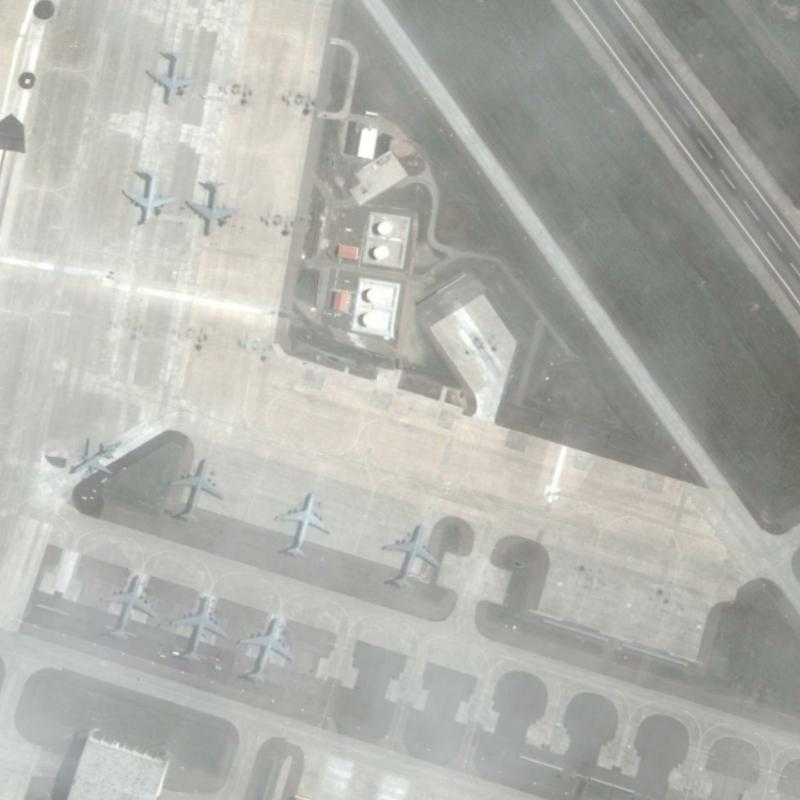A18: (66, 434, 119, 478)
A4: (378, 519, 440, 592), (167, 593, 229, 664), (98, 570, 158, 643), (272, 489, 333, 560), (166, 455, 226, 526), (235, 614, 294, 684), (121, 164, 179, 225), (183, 177, 241, 238), (142, 47, 200, 105)
